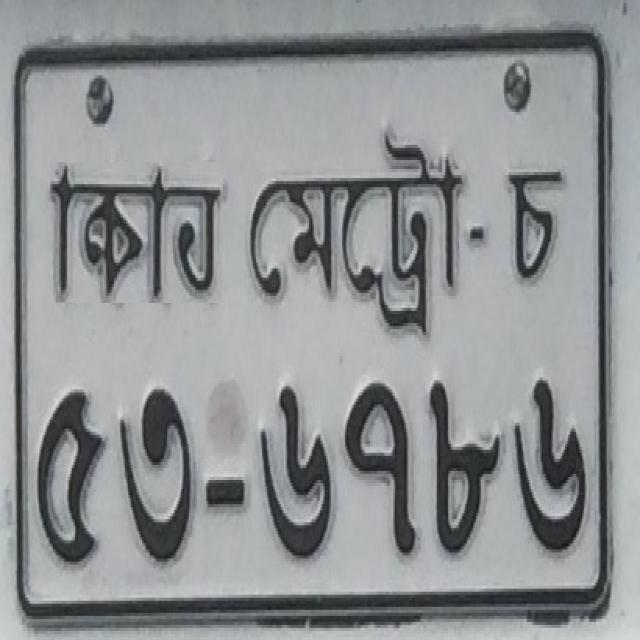cng: (248, 125, 465, 336), (50, 162, 223, 303)
numberplate: (12, 26, 614, 625)
